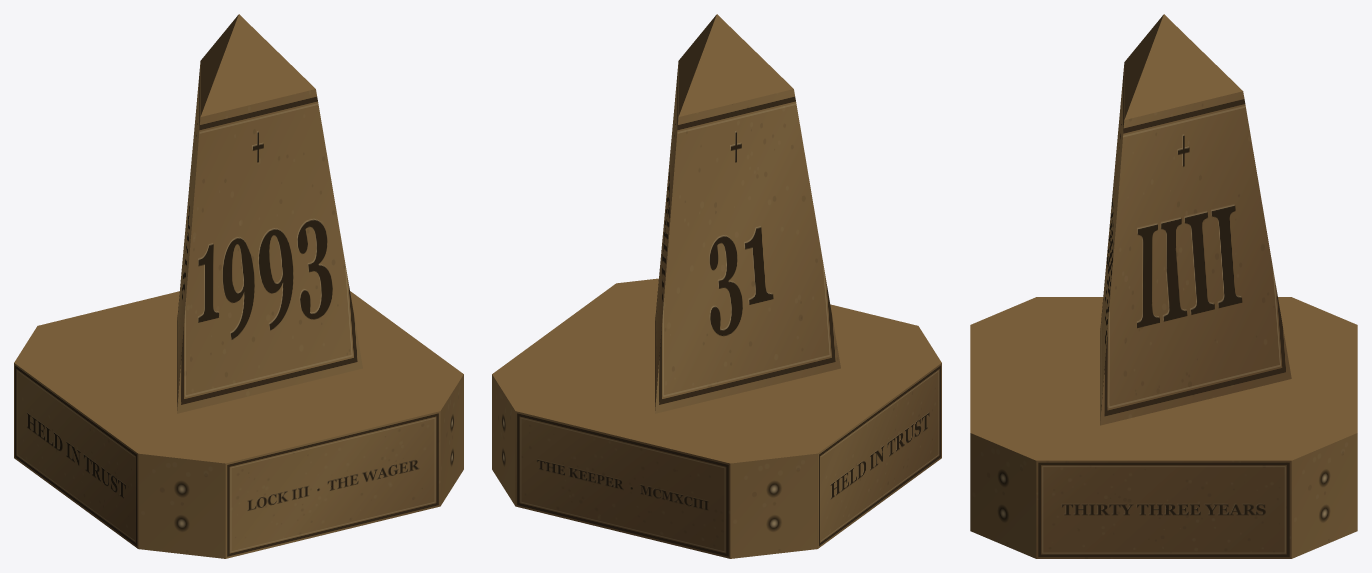
The model's file is witnessWager.glb.
3 views of the same model, side by side, from view 1: azimuth 30°, elevation 25°; view 2: azimuth 150°, elevation 25°; view 3: azimuth 270°, elevation 25° (orthographic). The views are drawn at different scales.
Visible parts, largest first — view 1: witnessWager; view 2: witnessWager; view 3: witnessWager.
Boxes of the visible parts, x1=… form: witnessWager: x1=14, y1=14, x2=463, y2=558; witnessWager: x1=492, y1=14, x2=941, y2=558; witnessWager: x1=970, y1=14, x2=1357, y2=558.
Size of the model in its own units: 0.1 by 0.132 by 0.1.
Materials: 1 (1 with a texture image).
